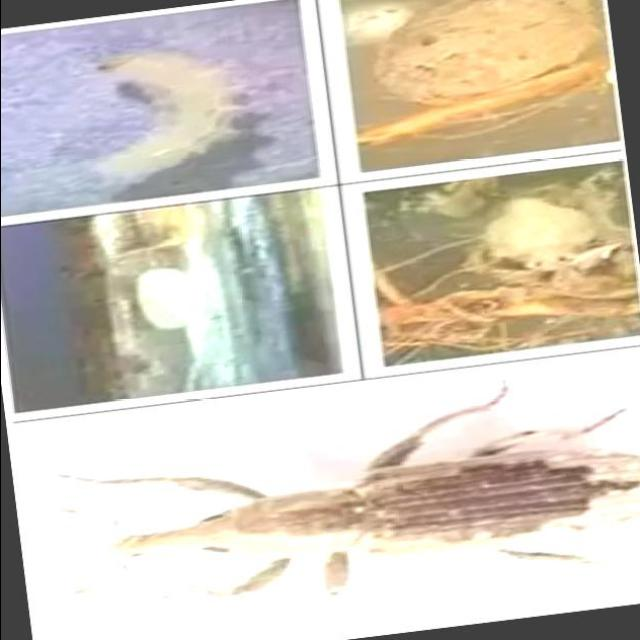ricebug: (75, 389, 640, 594), (96, 52, 241, 179), (480, 198, 595, 269)
